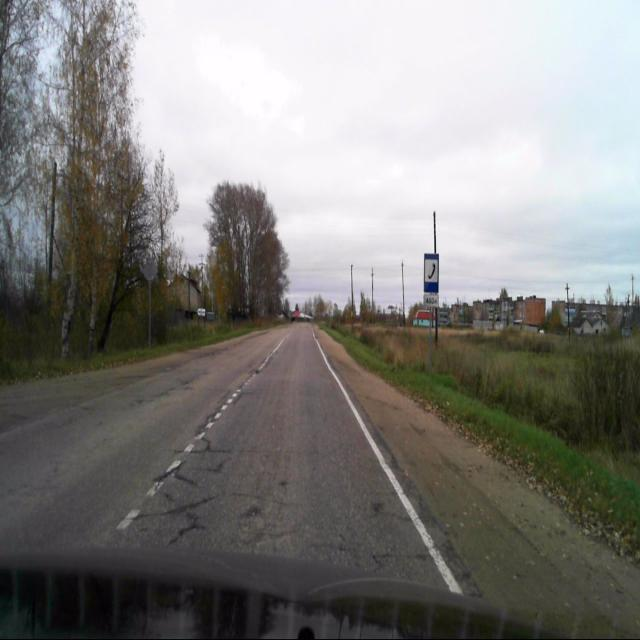road sign: (424, 252, 439, 292), (424, 293, 438, 308)
